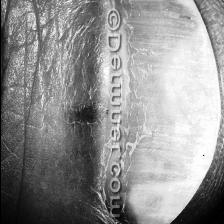Non-Cancerous Skin Condition: (49, 0, 219, 224)
